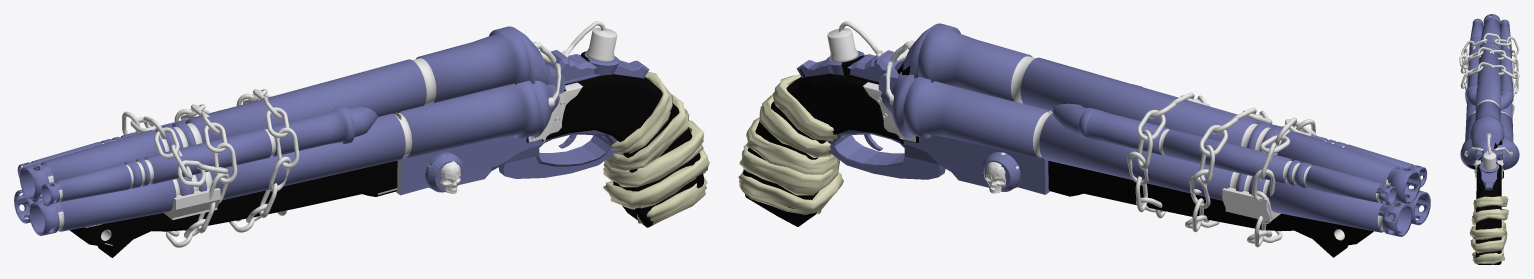
Rendered from ShotGun_Cyberpunk.fbx.
3 views of the same model, side by side, from view 1: azimuth 30°, elevation 25°; view 2: azimuth 150°, elevation 25°; view 3: azimuth 270°, elevation 25° (orthographic). The views are drawn at different scales.
Parts seen in each view (by area): view 1: Cylinder, Cylinder.005, BezierCurve, Cylinder.009, Cylinder.001, Cylinder.007, Cylinder.011; view 2: Cylinder, Cylinder.005, BezierCurve, Cylinder.009, Cylinder.007, Cylinder.001, Cylinder.011; view 3: Cylinder, Cylinder.005, BezierCurve, Cylinder.007, Cylinder.009, Cylinder.011, Cylinder.001.
Boxes of the visible parts, x1=… form: Cylinder: x1=14, y1=26, x2=542, y2=257; Cylinder.005: x1=459, y1=50, x2=704, y2=227; BezierCurve: x1=603, y1=71, x2=709, y2=224; Cylinder.009: x1=562, y1=21, x2=617, y2=61; Cylinder.001: x1=529, y1=82, x2=582, y2=143; Cylinder.007: x1=511, y1=26, x2=555, y2=85; Cylinder.011: x1=532, y1=41, x2=560, y2=107; Cylinder: x1=902, y1=23, x2=1430, y2=257; Cylinder.005: x1=743, y1=50, x2=1016, y2=226; BezierCurve: x1=738, y1=74, x2=845, y2=214; Cylinder.009: x1=827, y1=21, x2=883, y2=62; Cylinder.007: x1=894, y1=23, x2=939, y2=78; Cylinder.001: x1=863, y1=82, x2=915, y2=141; Cylinder.011: x1=885, y1=40, x2=914, y2=104; Cylinder: x1=1459, y1=14, x2=1519, y2=147; Cylinder.005: x1=1460, y1=139, x2=1519, y2=264; BezierCurve: x1=1469, y1=196, x2=1508, y2=264; Cylinder.007: x1=1470, y1=119, x2=1504, y2=162; Cylinder.009: x1=1482, y1=146, x2=1496, y2=169; Cylinder.011: x1=1464, y1=133, x2=1512, y2=156; Cylinder.001: x1=1475, y1=160, x2=1502, y2=178.
Bounding box in the file's own units: 1198 × 381 × 186.
